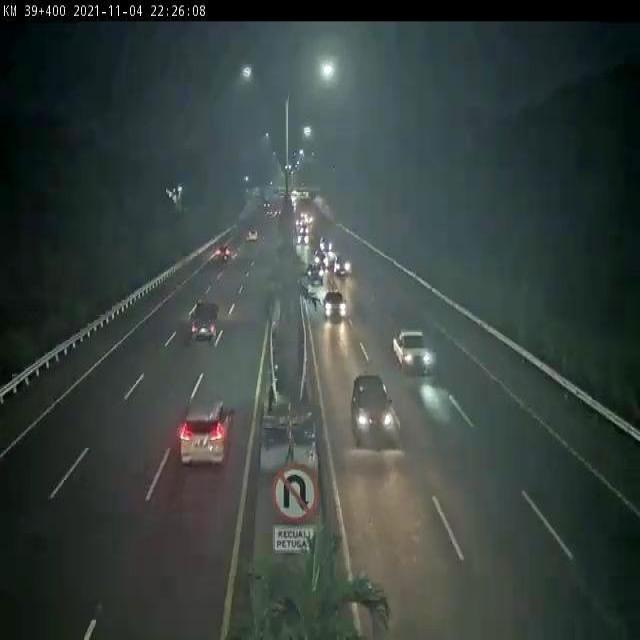car: (177, 396, 236, 468), (352, 373, 394, 440), (187, 301, 224, 347), (394, 328, 431, 371), (324, 292, 347, 320), (212, 247, 233, 269)
